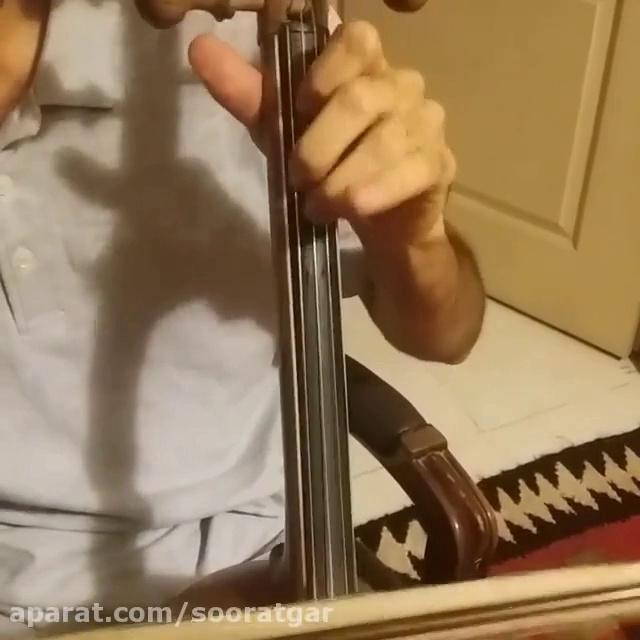Kamanche: (124, 1, 478, 640)
